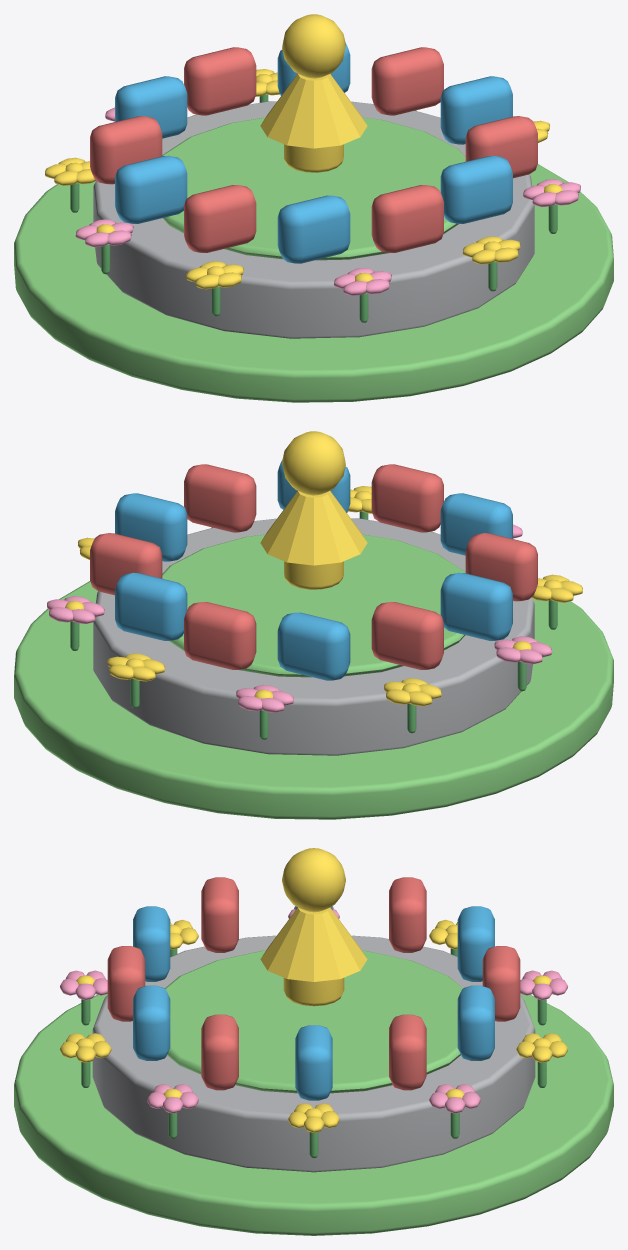
The model's file is region_arena.glb.
3 views of the same model, one above another, from view 1: azimuth 30°, elevation 25°; view 2: azimuth 150°, elevation 25°; view 3: azimuth 270°, elevation 25° (orthographic).
Visible parts, largest first — view 1: round grassy plot, rounded arena, competition field, Cone, colorful stands.009, colorful stands.010, colorful stands.008, colorful stands.002, colorful stands.007, colorful stands.004, colorful stands.011, colorful stands.001 (+6 smaller); view 2: round grassy plot, rounded arena, competition field, Cone, colorful stands.005, colorful stands.004, colorful stands.006, colorful stands, colorful stands.007, colorful stands.010, colorful stands.003, colorful stands.001 (+6 smaller); view 3: round grassy plot, rounded arena, competition field, Cone, victory star, colorful stands.002, colorful stands, colorful stands.001, colorful stands.006, colorful stands.008, colorful stands.003, colorful stands.011 (+5 smaller).
Part boxes in pixels (x1,y1,x2,y2): round grassy plot: [14, 164, 613, 402]; rounded arena: [93, 101, 534, 338]; competition field: [162, 117, 465, 260]; Cone: [260, 74, 367, 148]; colorful stands.009: [277, 195, 350, 263]; colorful stands.010: [371, 185, 443, 252]; colorful stands.008: [184, 185, 256, 252]; colorful stands.002: [371, 47, 443, 115]; colorful stands.007: [115, 155, 187, 223]; colorful stands.004: [184, 47, 256, 115]; colorful stands.011: [440, 155, 512, 223]; colorful stands.001: [440, 76, 512, 144]; round grassy plot: [14, 581, 613, 819]; rounded arena: [93, 518, 534, 755]; competition field: [162, 534, 465, 677]; Cone: [260, 491, 367, 565]; colorful stands.005: [277, 612, 350, 680]; colorful stands.004: [184, 602, 256, 669]; colorful stands.006: [371, 602, 443, 669]; colorful stands: [184, 464, 256, 532]; colorful stands.007: [440, 572, 512, 640]; colorful stands.010: [371, 464, 443, 532]; colorful stands.003: [115, 572, 187, 640]; colorful stands.001: [115, 493, 187, 561]; round grassy plot: [14, 994, 613, 1235]; rounded arena: [92, 935, 535, 1172]; competition field: [165, 950, 462, 1093]; Cone: [260, 907, 367, 981]; victory star: [282, 848, 345, 912]; colorful stands.002: [389, 1014, 426, 1090]; colorful stands: [201, 1014, 238, 1090]; colorful stands.001: [295, 1025, 332, 1100]; colorful stands.006: [389, 877, 426, 952]; colorful stands.008: [201, 877, 238, 952]; colorful stands.003: [457, 985, 494, 1060]; colorful stands.011: [133, 985, 170, 1060].
Bounding box in the file's own units: 3.36 × 1.61 × 3.36.
